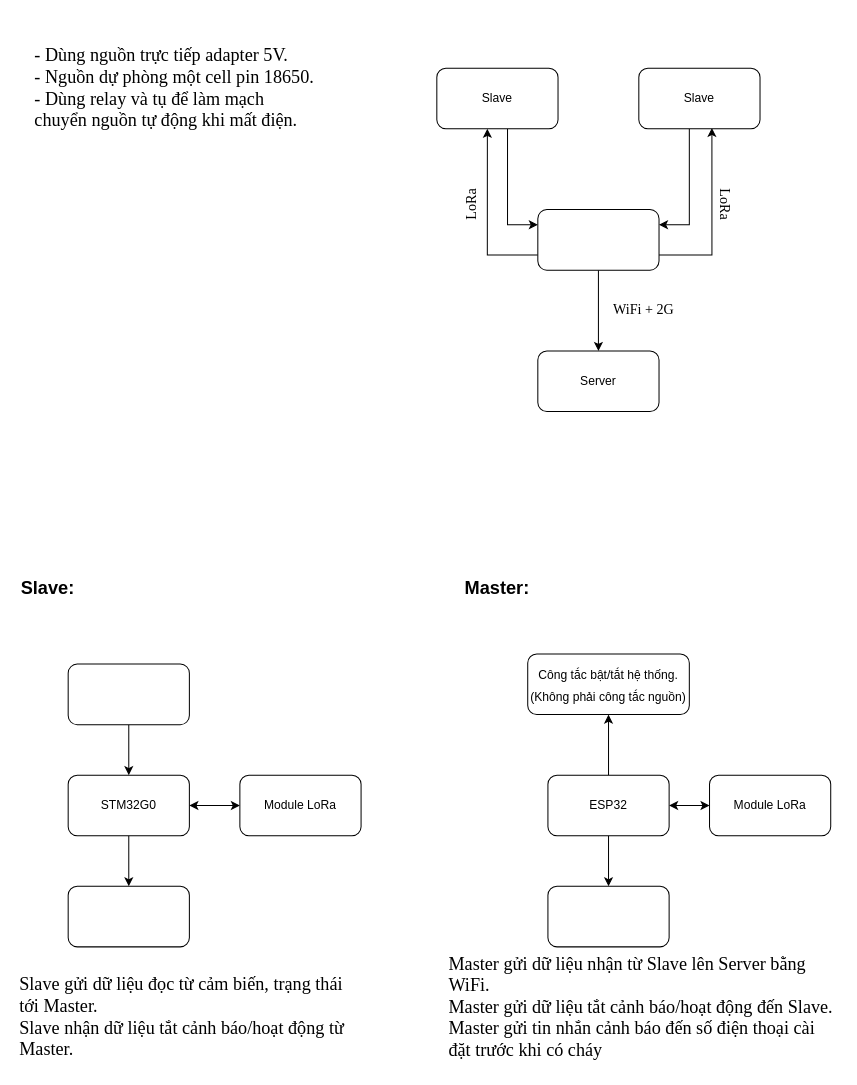
The diagram is 857 pixels wide and 1085 high, and some of its shapes have lost their labels. Each missing label, with the centre of its shape:
Cảm biến khói: MQ7 Cảm biến nhiệt độ: AHT10, DHT11, LM35: [128,694]
Master: [598,239]
Relay x3: [128,916]
SIM800C: [608,916]
